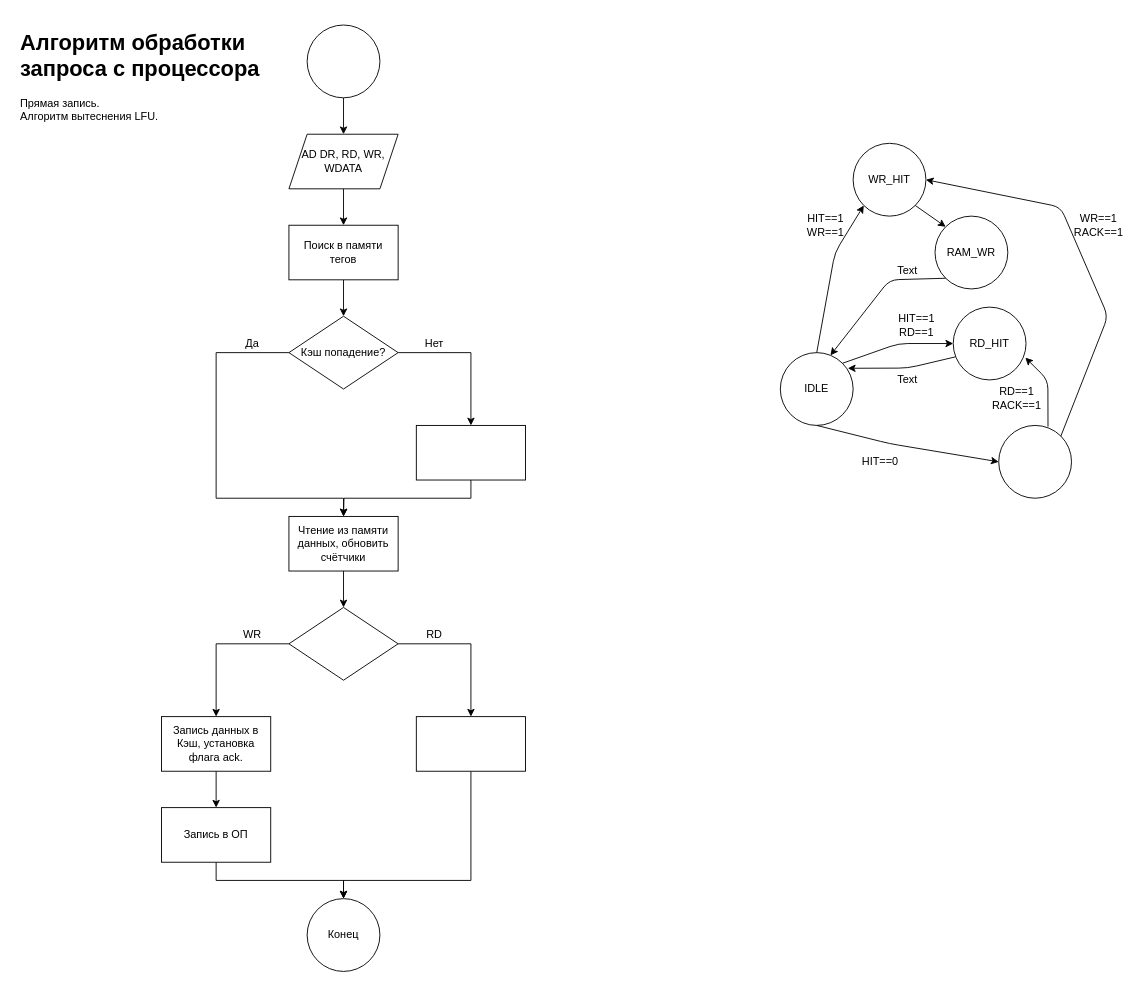
The diagram is 1138 pixels wide and 987 high, and some of its shapes have lost their labels. The centre of each missing label's shape, as x and y in pixels:
RAM_RD: (x=1035, y=461)
RD, WR: (x=343, y=643)
Выдача данных RDATA, установка флага ack.: (x=470, y=743)
Начало: (x=343, y=61)
Чтение из ОП. По адресу LFU: (x=470, y=452)
